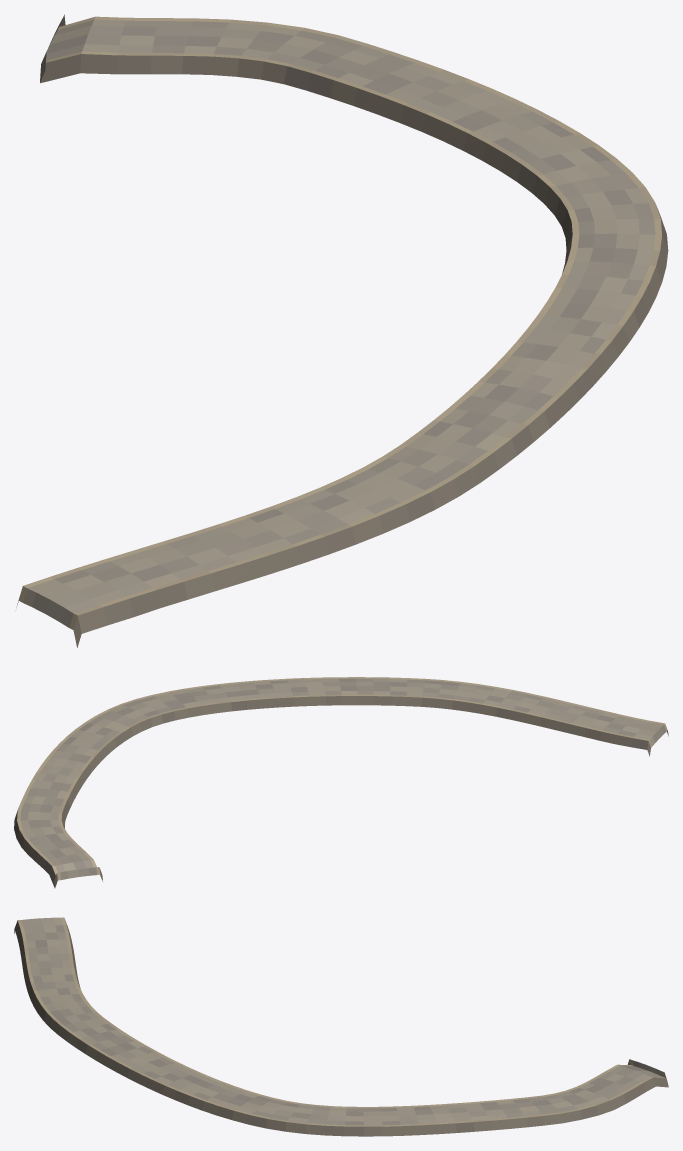
Rendered from road_pond_lane.glb.
3 views of the same model, one above another, from view 1: azimuth 30°, elevation 25°; view 2: azimuth 150°, elevation 25°; view 3: azimuth 270°, elevation 25° (orthographic). The views are drawn at different scales.
Parts seen in each view (by area): view 1: road_pond_lane; view 2: road_pond_lane; view 3: road_pond_lane.
Boxes of the visible parts, x1,y1,x2,y2 form: road_pond_lane: (16, 14, 668, 647); road_pond_lane: (14, 677, 668, 888); road_pond_lane: (14, 917, 668, 1136).
Size of the model in its own units: 89.99 by 5.24 by 111.
Materials: 1 (1 with a texture image).
